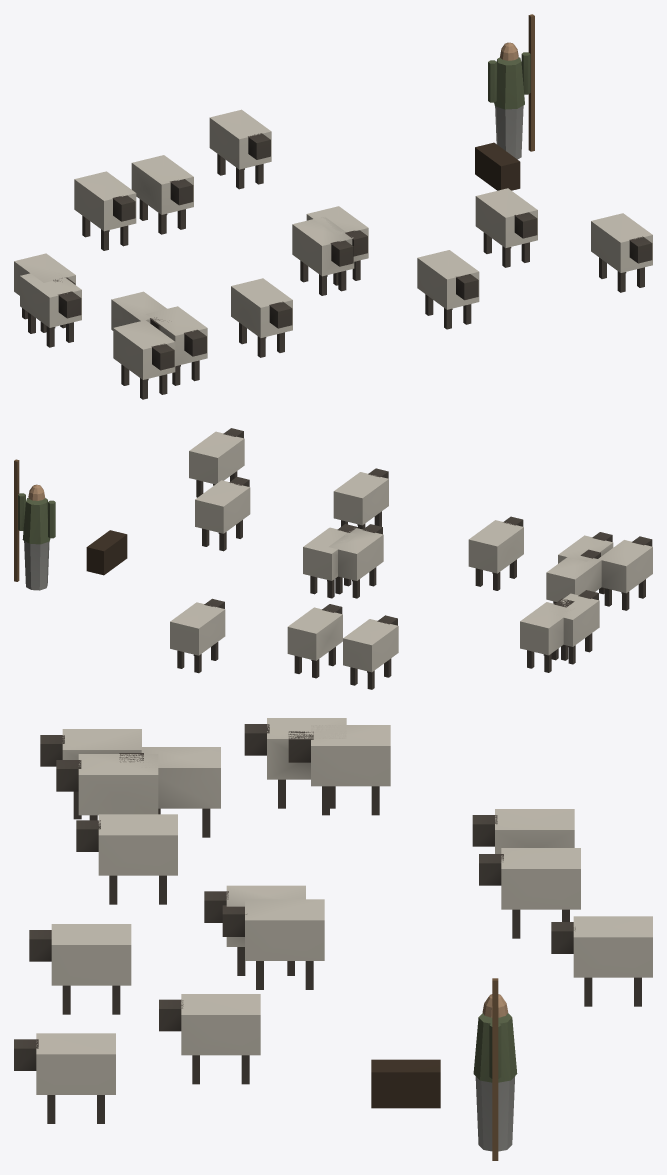
The model's file is shepherd.glb.
3 renders of one model, top to bottom at view 1: azimuth 30°, elevation 25°; view 2: azimuth 150°, elevation 25°; view 3: azimuth 270°, elevation 25°, orthographic. The views are drawn at different scales.
Visible parts, largest first — view 1: anim_graze, base; view 2: anim_graze, base; view 3: anim_graze, base.
Part boxes in pixels (x1,y1,x2,y2): anim_graze: (14, 109, 652, 399); base: (475, 14, 534, 190); anim_graze: (170, 428, 652, 689); base: (14, 459, 127, 590); anim_graze: (14, 718, 652, 1123); base: (371, 978, 517, 1160).
Size of the model in its own units: 8.83 by 2 by 6.43.
